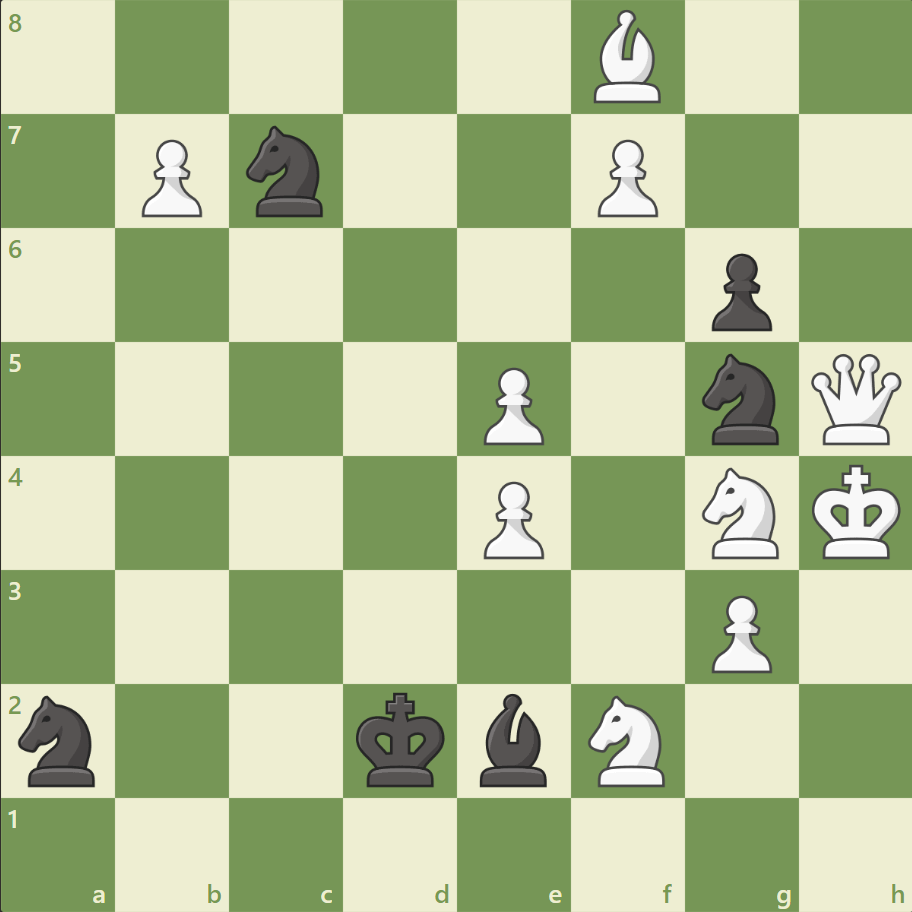B: (585, 6, 669, 109)
K: (806, 458, 906, 566)
N: (692, 461, 789, 564), (579, 688, 676, 791)
P: (133, 132, 208, 223), (474, 359, 549, 450), (474, 473, 549, 564), (701, 586, 776, 677), (588, 132, 662, 223)
Q: (805, 349, 904, 449)
b: (471, 687, 555, 790)
k: (351, 685, 451, 793)
n: (11, 688, 108, 791), (238, 121, 335, 223), (692, 348, 789, 450)
p: (701, 246, 776, 337)
